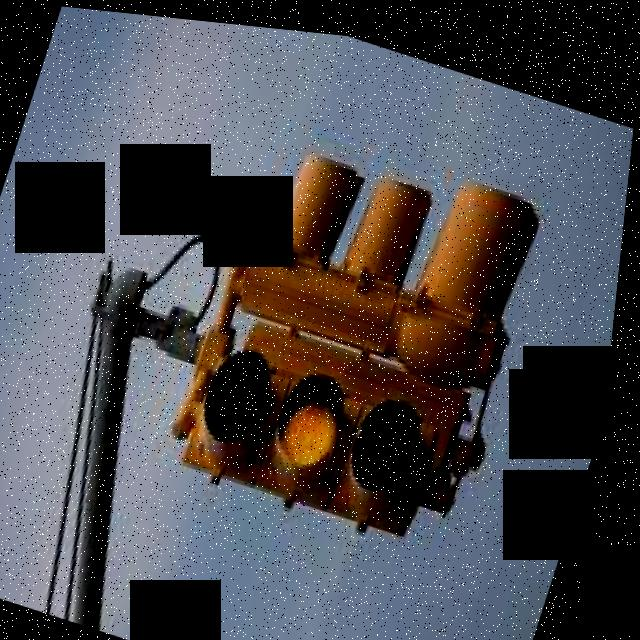yellow: (186, 298, 466, 539)
